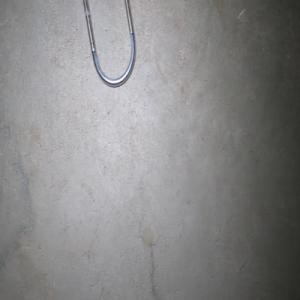ClampPart: (82, 0, 136, 88)
